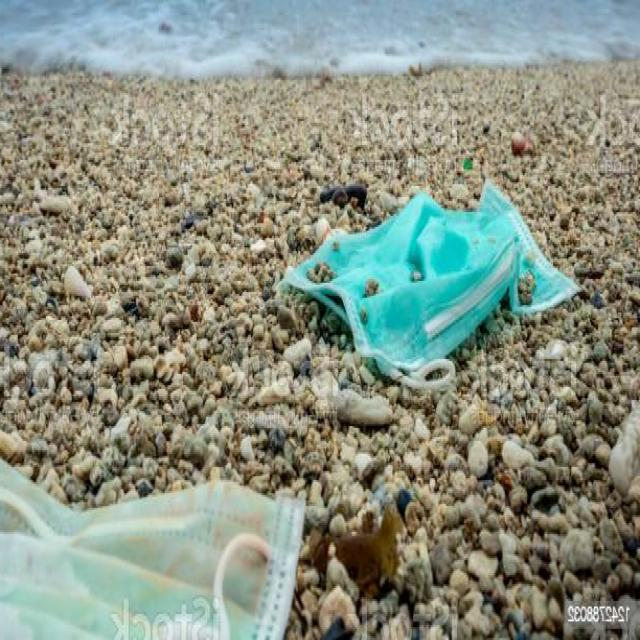face mask: (282, 174, 578, 383), (0, 452, 325, 640)
